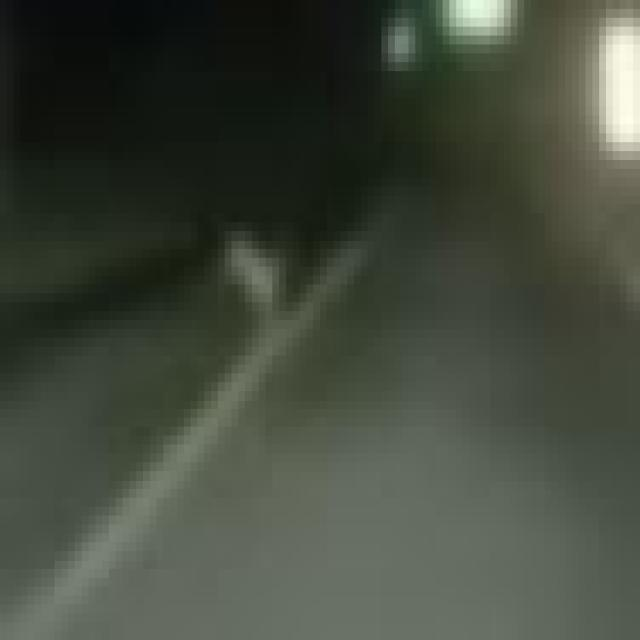elk: (180, 194, 316, 363)
